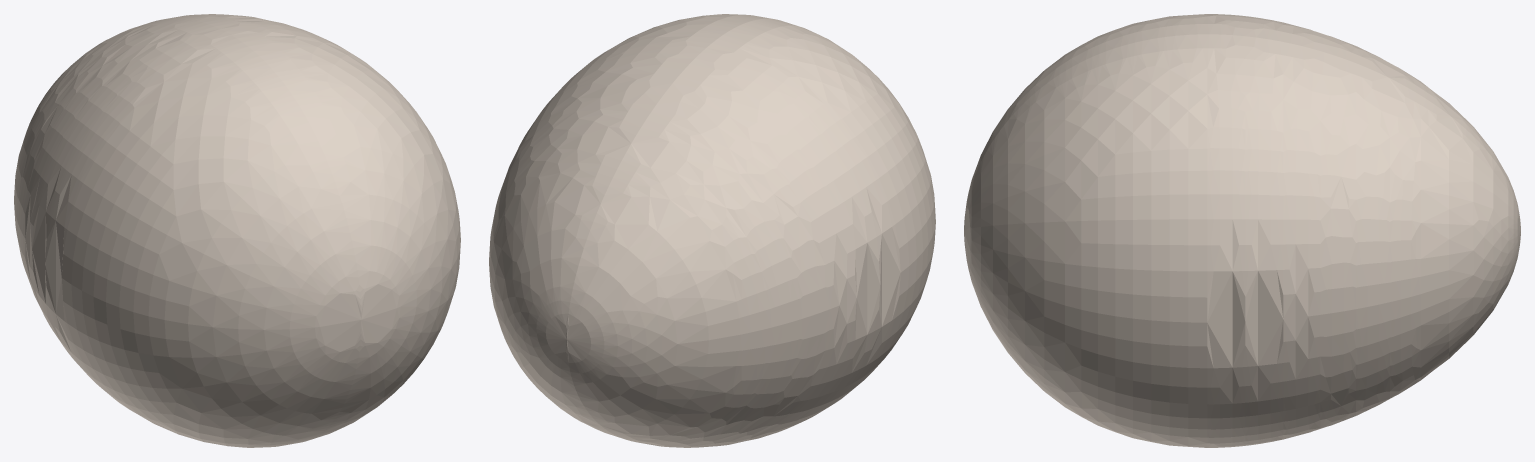
Rendered from egg.dae.
The picture shows the model from 3 angles, left to right: view 1: azimuth 30°, elevation 25°; view 2: azimuth 150°, elevation 25°; view 3: azimuth 270°, elevation 25°; orthographic projection. The views are drawn at different scales.
Parts seen in each view (by area): view 1: node0; view 2: node0; view 3: node0.
Part boxes in pixels (<box>): node0: <box>14,14,460,447</box>; node0: <box>489,14,935,447</box>; node0: <box>964,14,1520,447</box>.
Bounding box in the file's own units: 0.0187 × 0.0241 × 0.0187.
